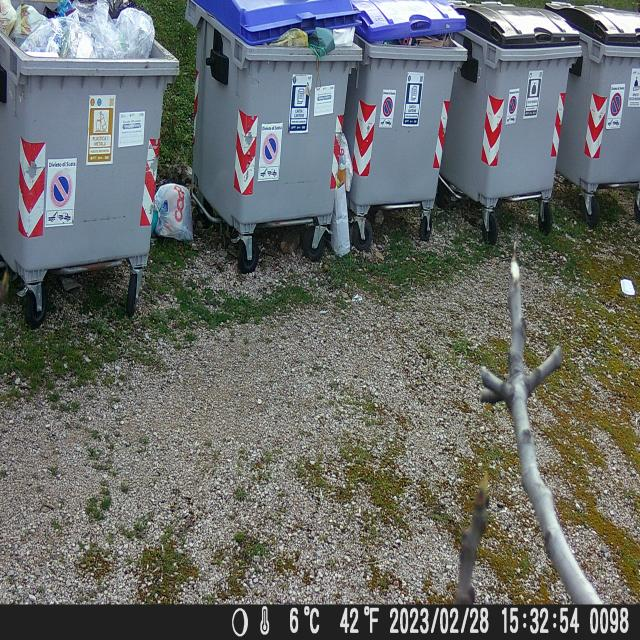sampah-detection: (3, 0, 155, 69), (265, 15, 363, 60), (152, 176, 196, 248), (334, 160, 351, 267)
